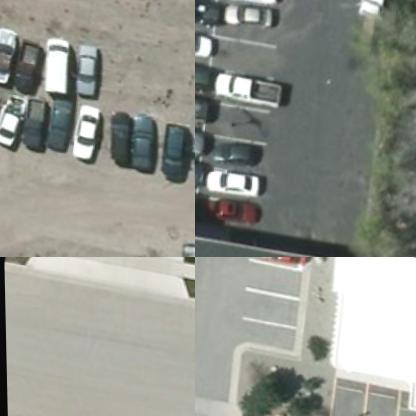car: (216, 66, 281, 104), (205, 130, 269, 168), (206, 161, 270, 199), (209, 184, 272, 222), (128, 107, 166, 169), (218, 0, 283, 35), (76, 34, 112, 96), (72, 98, 106, 156), (162, 117, 194, 177), (45, 30, 78, 88), (48, 94, 81, 152), (13, 36, 46, 94), (23, 88, 54, 148), (0, 86, 28, 145), (0, 21, 23, 80), (195, 26, 218, 58), (195, 57, 214, 89), (195, 0, 221, 23), (195, 89, 211, 121), (256, 257, 311, 265), (195, 121, 208, 153), (195, 152, 206, 184)
